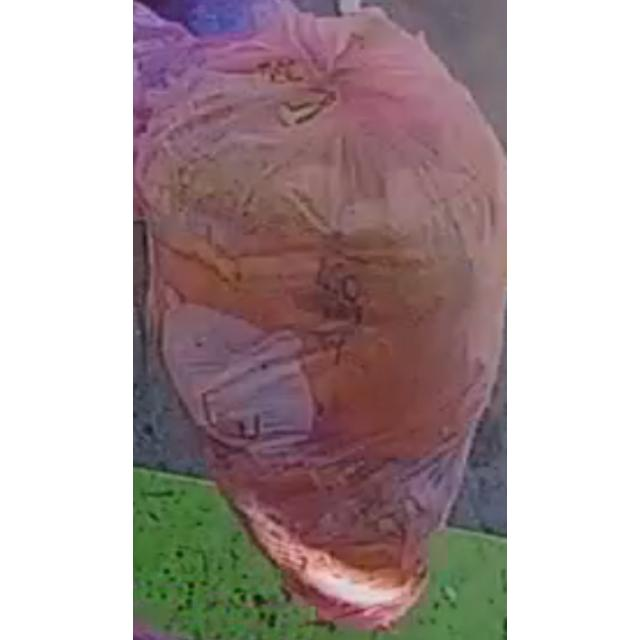other_trashbag: (136, 5, 506, 628)
